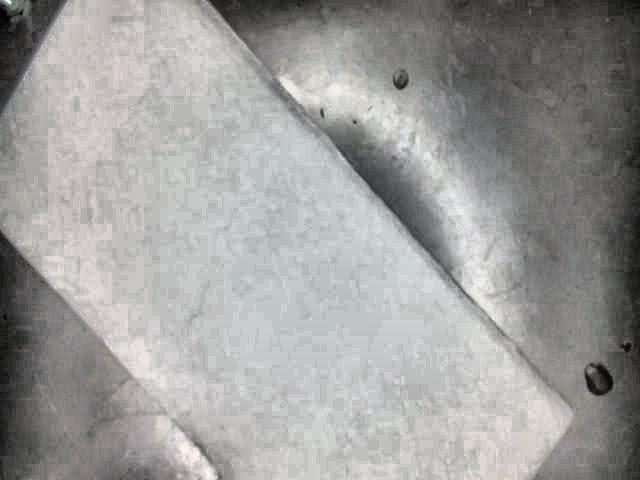Paper: (0, 2, 575, 480)
